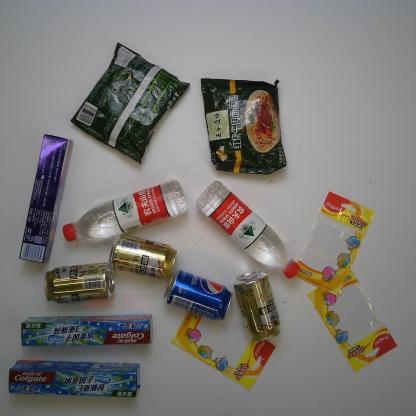Alcohol: (235, 270, 280, 341), (109, 235, 178, 280), (43, 262, 114, 304)
Drink: (196, 180, 299, 278), (63, 180, 187, 242), (164, 270, 233, 321)
Instant Noodles: (69, 41, 190, 162), (200, 77, 286, 174)
Personal Hygiene: (19, 134, 73, 264), (9, 359, 140, 398), (21, 315, 155, 347)
Stationery: (171, 296, 277, 390), (305, 265, 398, 372), (293, 192, 375, 298)
